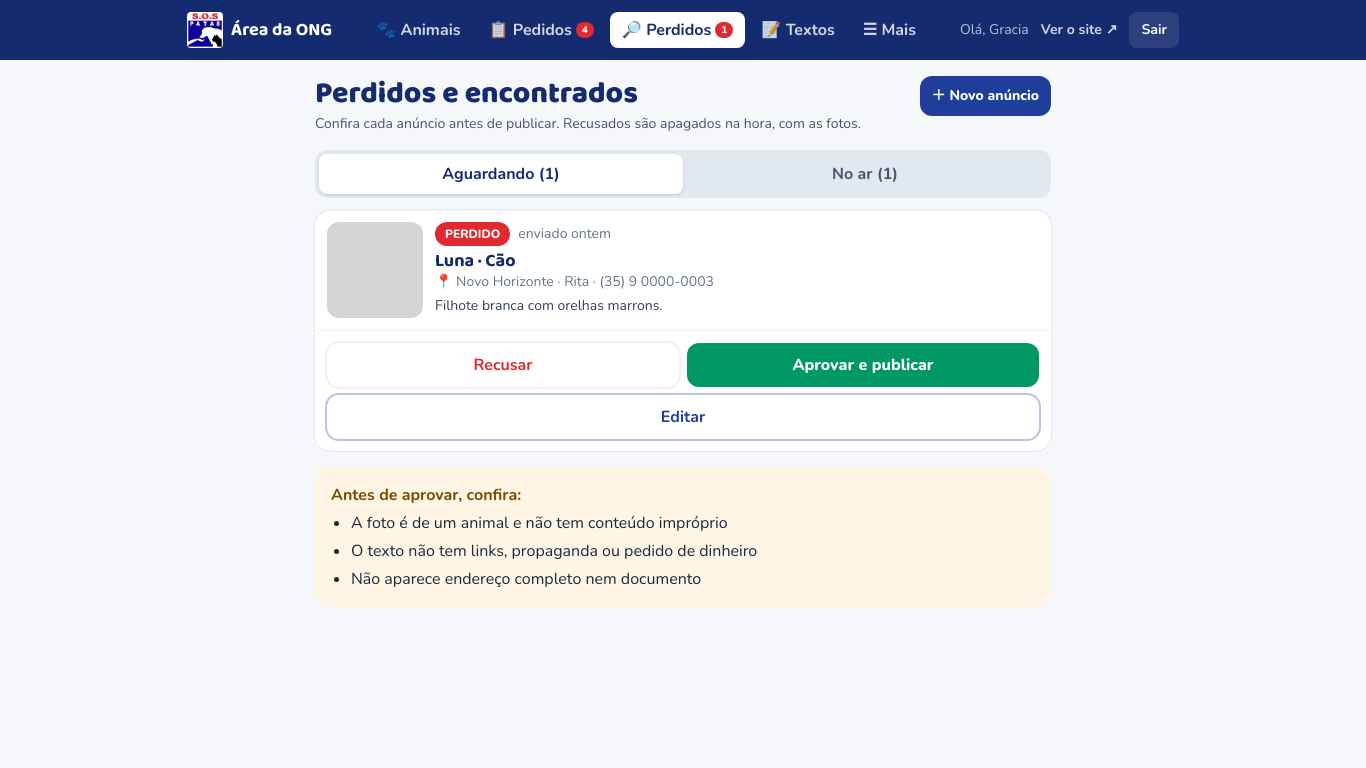
Test: T14 · Moderar perdidos e encontrados › falha do armazenamento: a mensagem aparece no modal e nada muda
Expected: the heading "Luna · Cão" is shown, [435,246,516,274]
Click the button "Recusar".
click(503, 364)  # box [327,342,679,386]
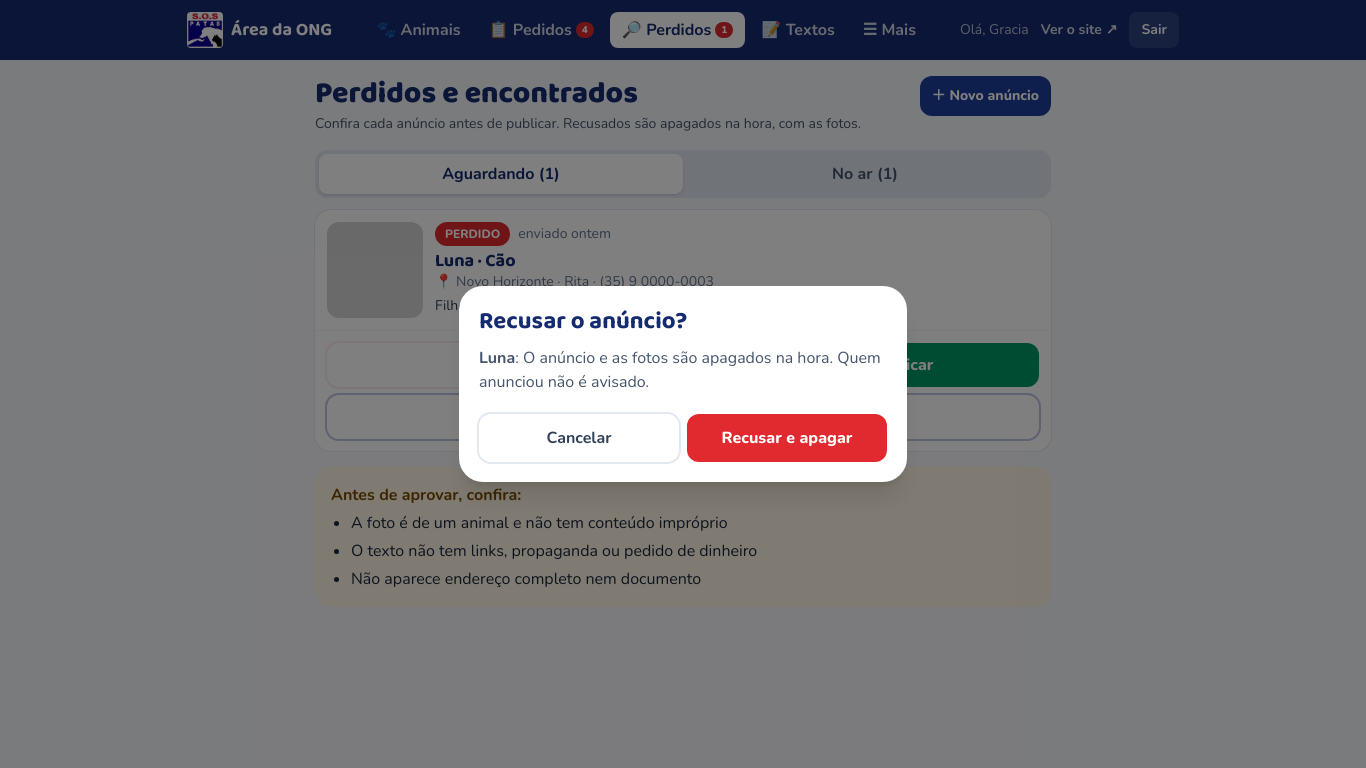
Click the button "Recusar e apagar".
click(787, 438)  # box [687,414,887,462]
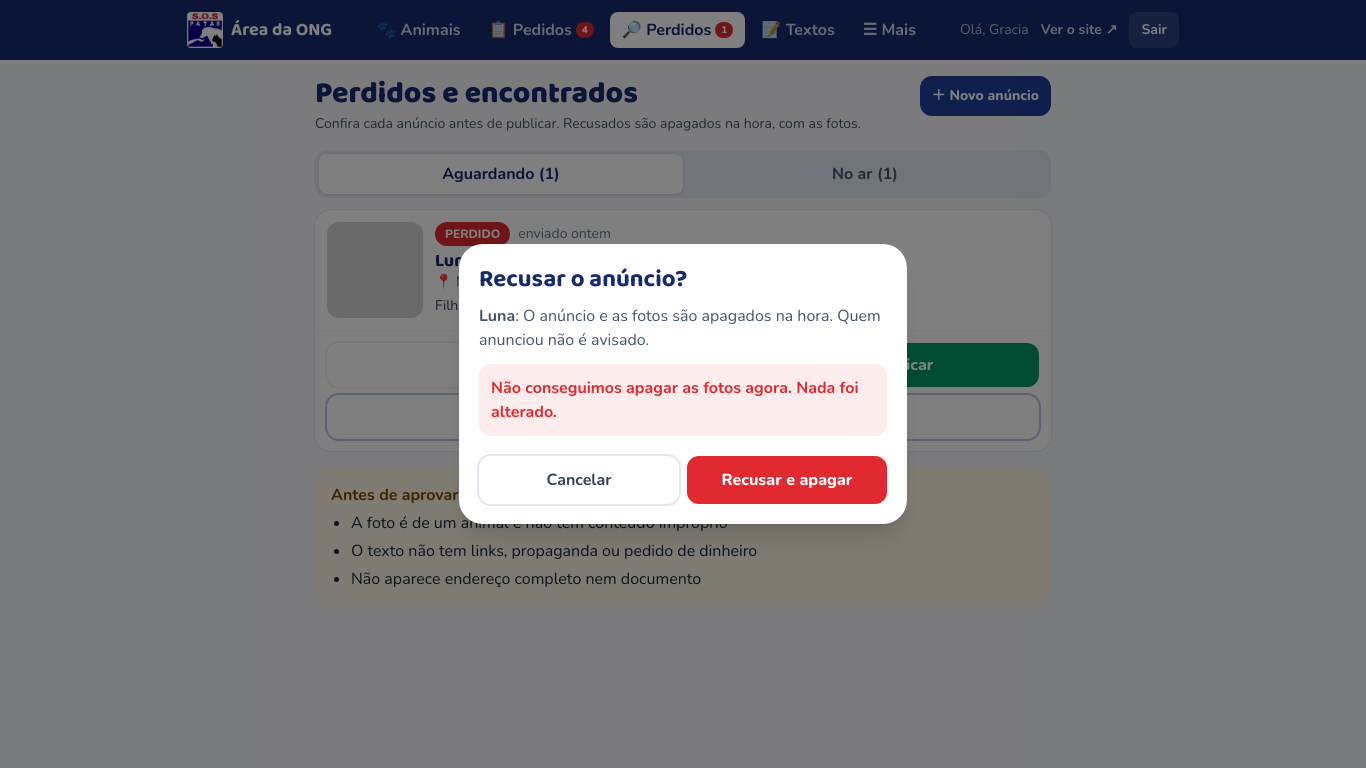
Expected: the message shows "Nada foi alterado", [491,377,858,423]
